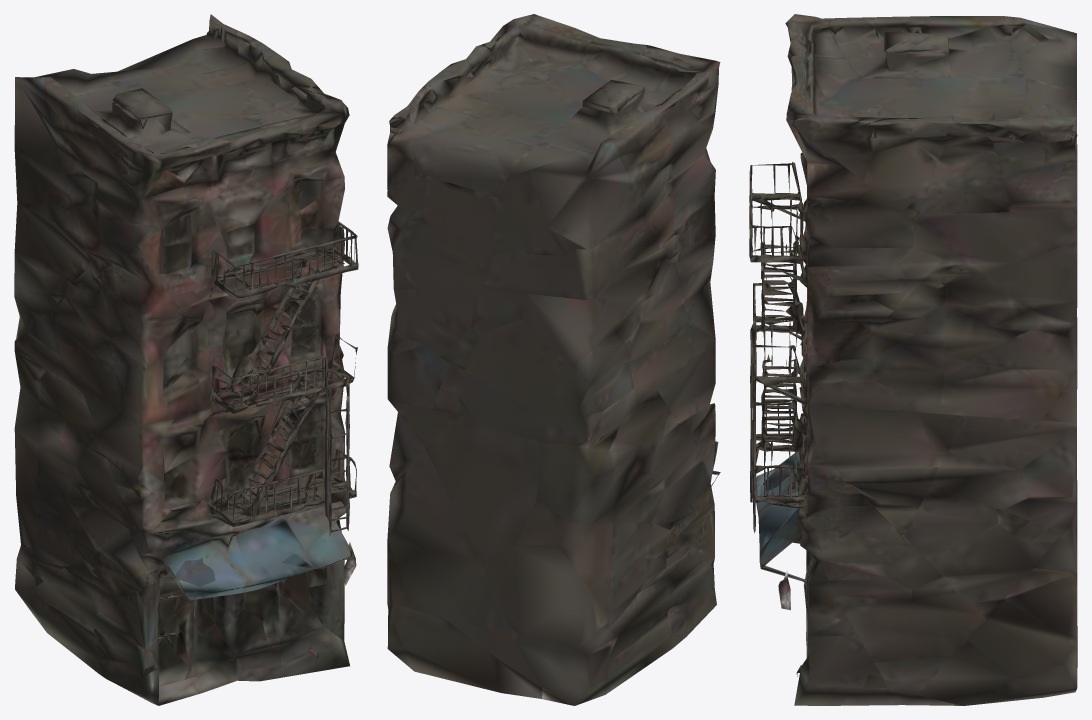
File: barber_shop_lod.glb
3 renders of one model, left to right at view 1: azimuth 30°, elevation 25°; view 2: azimuth 150°, elevation 25°; view 3: azimuth 270°, elevation 25°, orthographic. The views are drawn at different scales.
Visible parts, largest first — view 1: mesh_node; view 2: mesh_node; view 3: mesh_node.
Boxes of the visible parts, left/top/right/bottom form: mesh_node: left=14, top=14, right=358, bottom=705; mesh_node: left=387, top=14, right=720, bottom=705; mesh_node: left=749, top=14, right=1077, bottom=705.
Size of the model in its own units: 5.41 by 13.94 by 6.99.
1 material, 1 textured.
